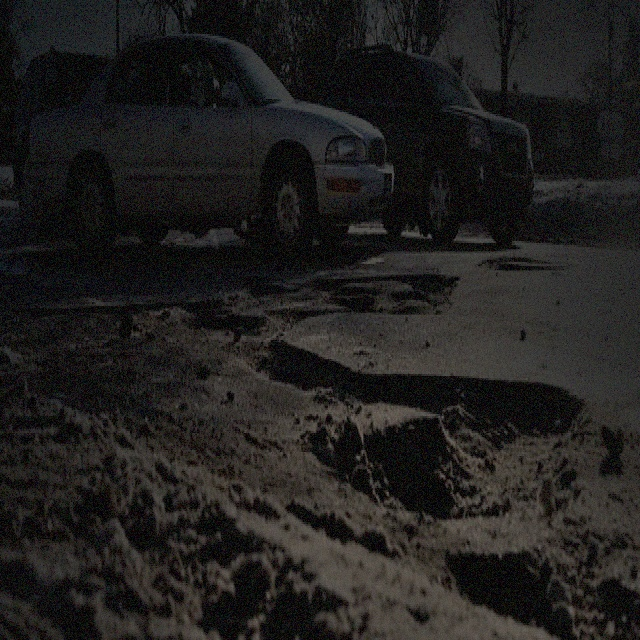pothole: (360, 357, 589, 528), (439, 534, 601, 632), (253, 332, 365, 414), (304, 268, 460, 315), (173, 292, 266, 346), (475, 243, 579, 274)
